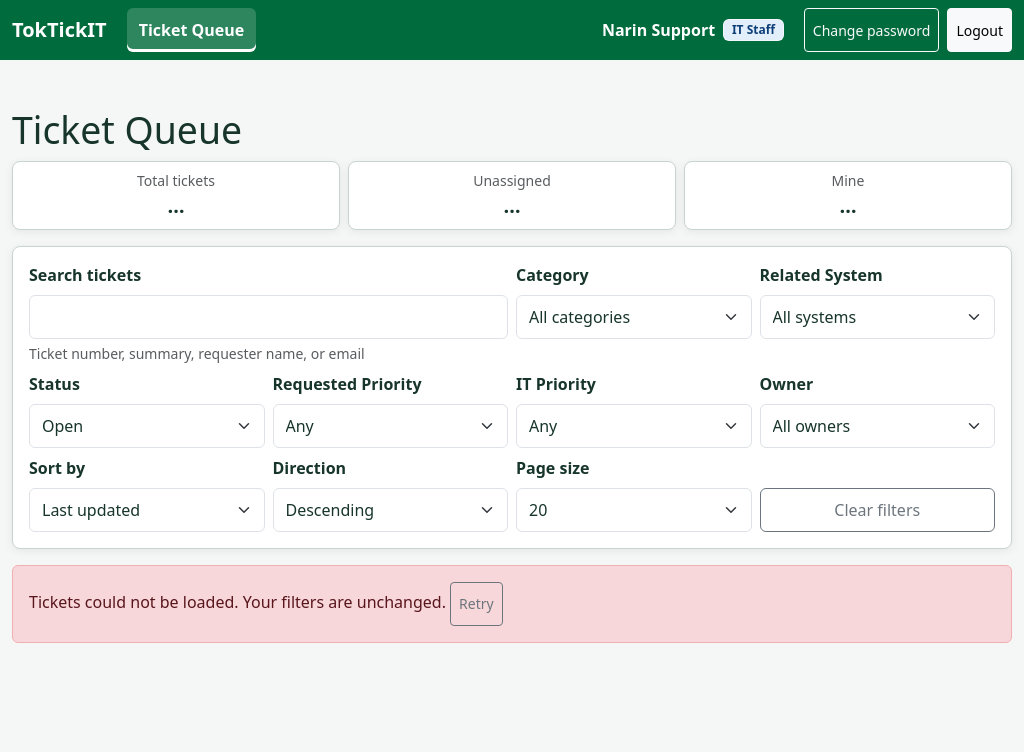
Test: UI-05 Staff Ticket Queue › shows a safe failure that keeps filters and retries
This screenshot has width=1024, height=752.
Check: the text "Tickets could not be loaded. Your filters are unchanged. Retry" is shown, box [12,565,1012,643]
Check: the dropdown labelled "Status" shows "Open", box [29,404,264,448]
What coordinates should you click on to do the following:
click the button "Retry"
I would click on:
 (476, 604)
Its box is [450,582,503,626].
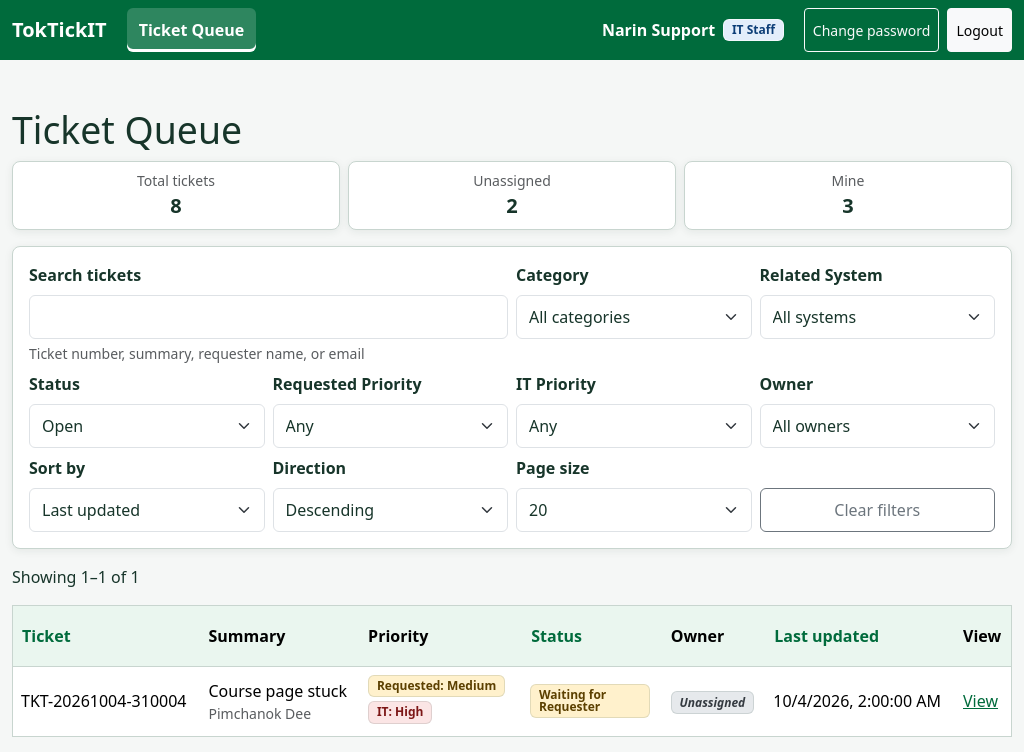
Check: the table is shown, box [12,605,1012,736]
